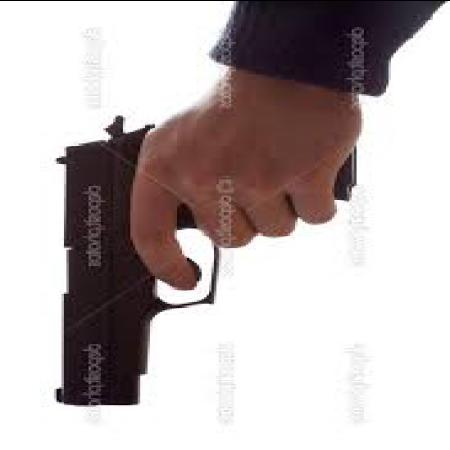Pistol: (42, 109, 359, 410)
